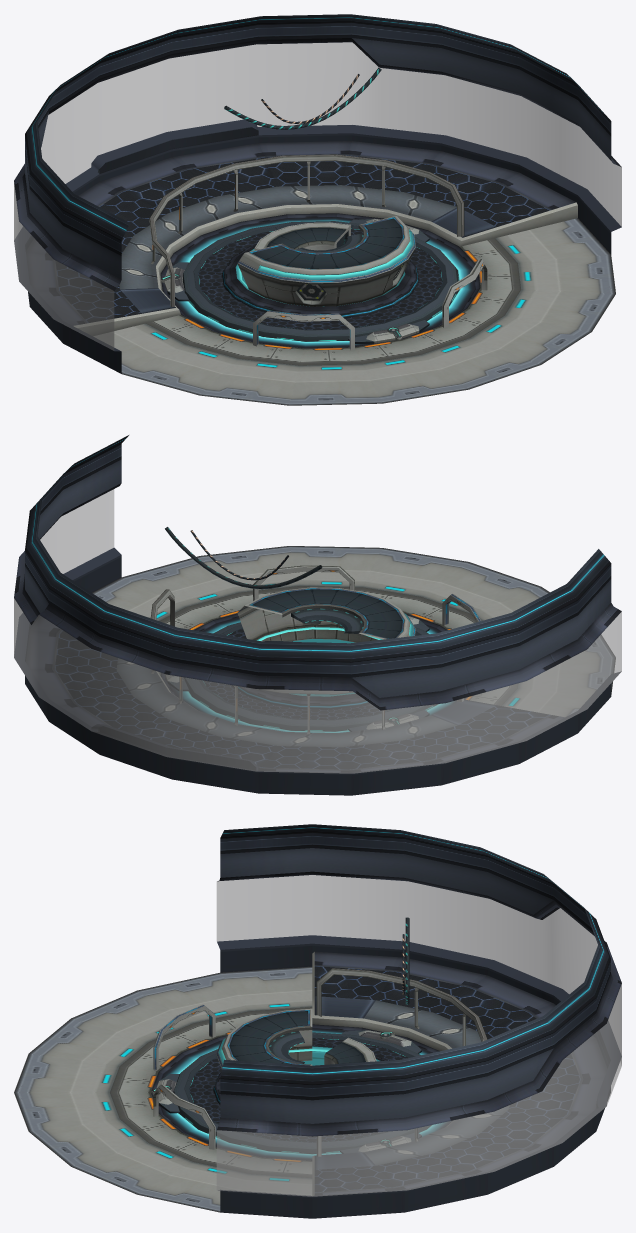
File: MemoryRoom.fbx
The picture shows the model from 3 angles, top to bottom: view 1: azimuth 30°, elevation 25°; view 2: azimuth 150°, elevation 25°; view 3: azimuth 270°, elevation 25°; orthographic projection.
Visible parts, largest first — view 1: MemoryRoom; view 2: MemoryRoom; view 3: MemoryRoom.
Part boxes in pixels (x1=…): MemoryRoom: x1=14, y1=14, x2=621, y2=405; MemoryRoom: x1=14, y1=435, x2=621, y2=795; MemoryRoom: x1=14, y1=824, x2=621, y2=1218.
Size of the model in its own units: 9.2 by 2.58 by 9.03.
